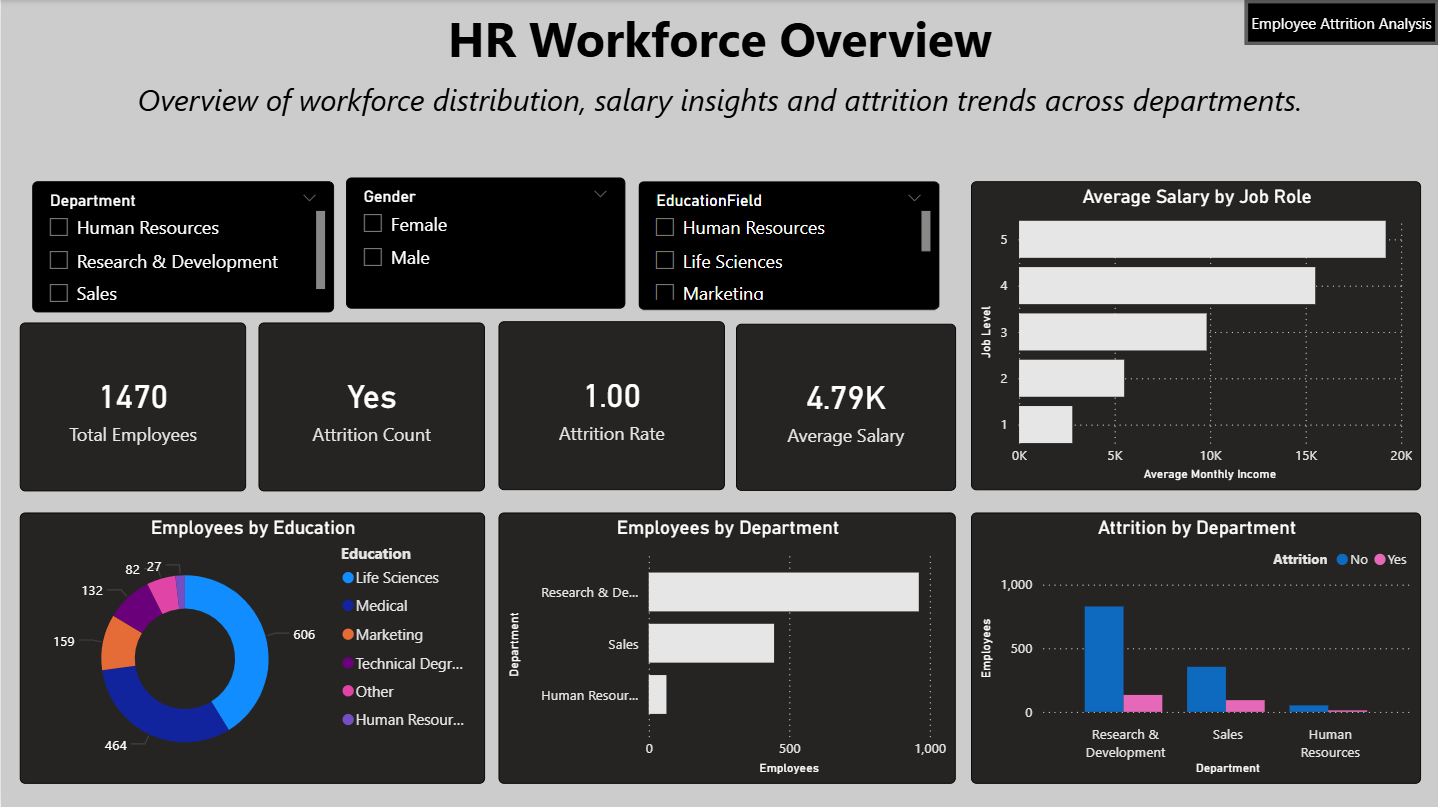

What the dashboard file says about the page in this screenshot:
{"tool":"powerbi","page":{"name":"Page 1","canvas":[1280,720],"ordinal":0},"visuals":[{"type":"textbox","box":[0,0,1280.3,75.5],"z":0},{"type":"textbox","box":[0,65.9,1280.3,45.3],"z":1},{"type":"card","fields":{"Values":["Count(HR-Employee-Attrition.EmployeeNumber)"]},"box":[16.8,287,201.7,150.1],"z":2},{"type":"card","fields":{"Values":["Min(HR-Employee-Attrition.Attrition)"]},"box":[229.3,287,201.7,150.1],"z":3},{"type":"card","fields":{"Values":["HR-Employee-Attrition.Attrition Rate"]},"box":[443.1,285.8,201.7,150.1],"z":4},{"type":"card","fields":{"Values":["Avg(HR-Employee-Attrition.MonthlyIncome)"]},"box":[654.4,288.2,195.7,148.9],"z":5},{"type":"barChart","title":"Employees by Department","fields":{"Category":["HR-Employee-Attrition.Department"],"Y":["CountNonNull(HR-Employee-Attrition.EmployeeNumber)"]},"box":[443.1,456.3,407.1,241.4],"z":6},{"type":"clusteredColumnChart","title":"Attrition by Department","fields":{"Category":["HR-Employee-Attrition.Department"],"Y":["CountNonNull(HR-Employee-Attrition.EmployeeNumber)"],"Series":["HR-Employee-Attrition.Attrition"]},"box":[863.3,456.3,401.1,241.4],"z":7},{"type":"donutChart","title":"Employees by Education","fields":{"Category":["HR-Employee-Attrition.EducationField"],"Y":["CountNonNull(HR-Employee-Attrition.EmployeeNumber)"]},"box":[16.8,456.3,414.3,241.4],"z":8},{"type":"barChart","title":"Average Salary by Job Role","fields":{"Category":["HR-Employee-Attrition.JobLevel"],"Y":["Avg(HR-Employee-Attrition.MonthlyIncome)"]},"box":[863.3,160.9,401.1,275],"z":9},{"type":"slicer","fields":{"Values":["HR-Employee-Attrition.Department"]},"box":[27.6,160.9,269,116.5],"z":10},{"type":"slicer","fields":{"Values":["HR-Employee-Attrition.Gender"]},"box":[307.4,158.5,248.6,116.5],"z":11},{"type":"slicer","fields":{"Values":["HR-Employee-Attrition.EducationField"]},"box":[568,160.9,267.8,114.1],"z":12},{"type":"actionButton","box":[1107.6,0,172.5,40.1],"z":13}]}

Visuals, with their boxes in screenshot pixels (x1, y1, x2, y2), scaled from the page's 1280x720 canvas onto the 1438x807 screenshot:
textbox: (x1=0, y1=0, x2=1437, y2=85)
textbox: (x1=0, y1=74, x2=1437, y2=125)
card - Count(HR-Employee-Attrition.EmployeeNumber): (x1=19, y1=322, x2=245, y2=490)
card - Min(HR-Employee-Attrition.Attrition): (x1=258, y1=322, x2=484, y2=490)
card - HR-Employee-Attrition.Attrition Rate: (x1=498, y1=320, x2=724, y2=489)
card - Avg(HR-Employee-Attrition.MonthlyIncome): (x1=735, y1=323, x2=955, y2=490)
"Employees by Department" barChart: (x1=498, y1=511, x2=955, y2=782)
"Attrition by Department" clusteredColumnChart: (x1=970, y1=511, x2=1420, y2=782)
"Employees by Education" donutChart: (x1=19, y1=511, x2=484, y2=782)
"Average Salary by Job Role" barChart: (x1=970, y1=180, x2=1420, y2=489)
slicer - HR-Employee-Attrition.Department: (x1=31, y1=180, x2=333, y2=311)
slicer - HR-Employee-Attrition.Gender: (x1=345, y1=178, x2=625, y2=308)
slicer - HR-Employee-Attrition.EducationField: (x1=638, y1=180, x2=939, y2=308)
actionButton: (x1=1244, y1=0, x2=1437, y2=45)
